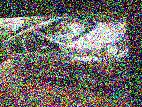car: (1, 13, 131, 98)
